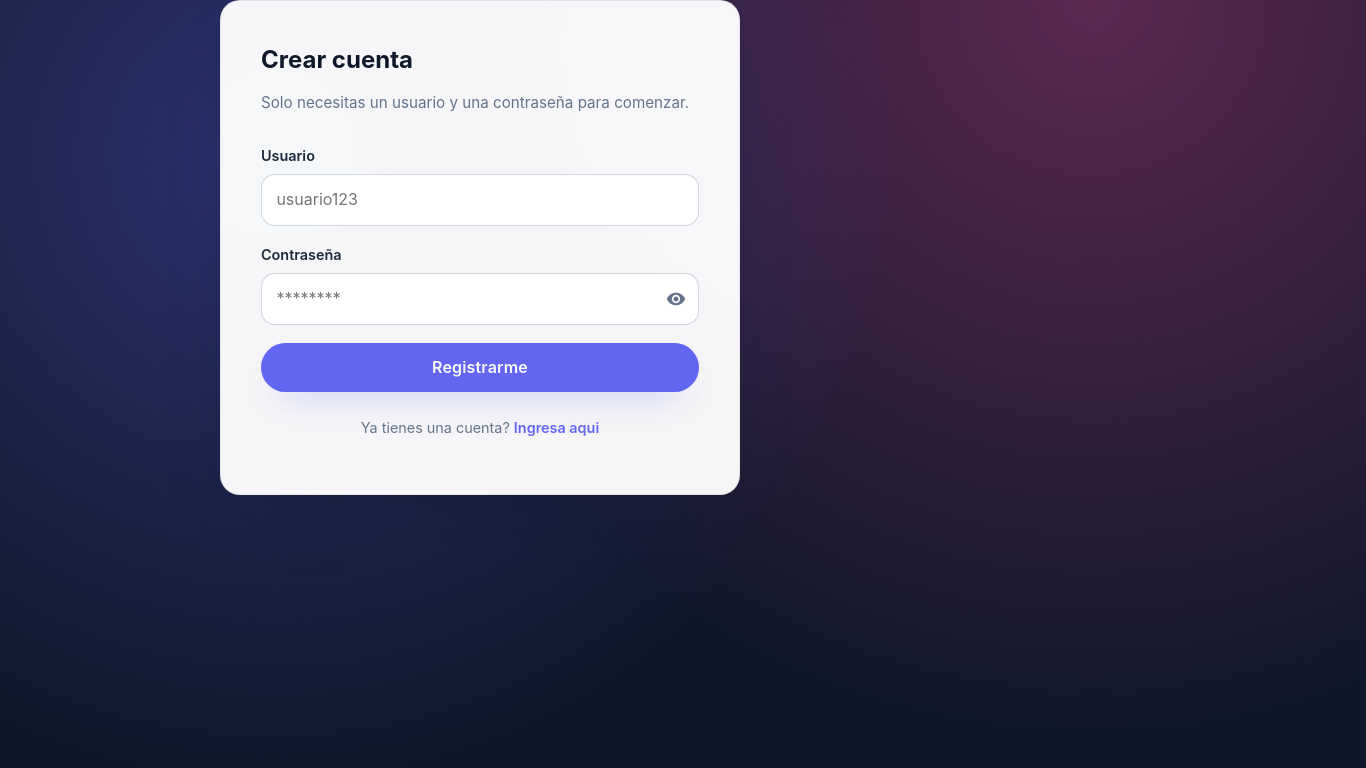
Test: RegisterForm › muestra mensajes de error cuando los campos son invalidos
The width and height of the screenshot is (1366, 768).
Type "abc1" into the field labelled "Usuario". click: (480, 200)
box: top-left (261, 174), bottom-right (699, 226)
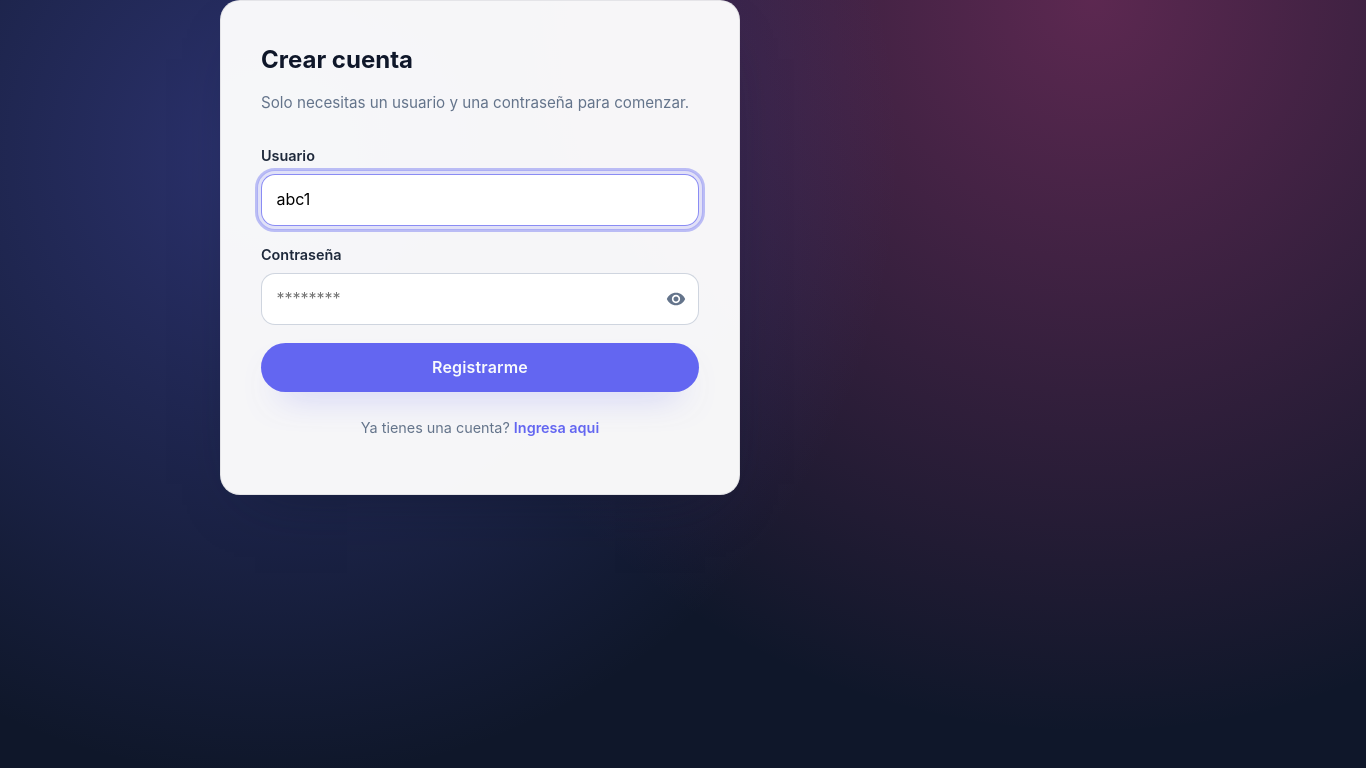
Type "abc" into the password field labelled "Contraseña". click: (480, 299)
box: top-left (261, 273), bottom-right (699, 325)
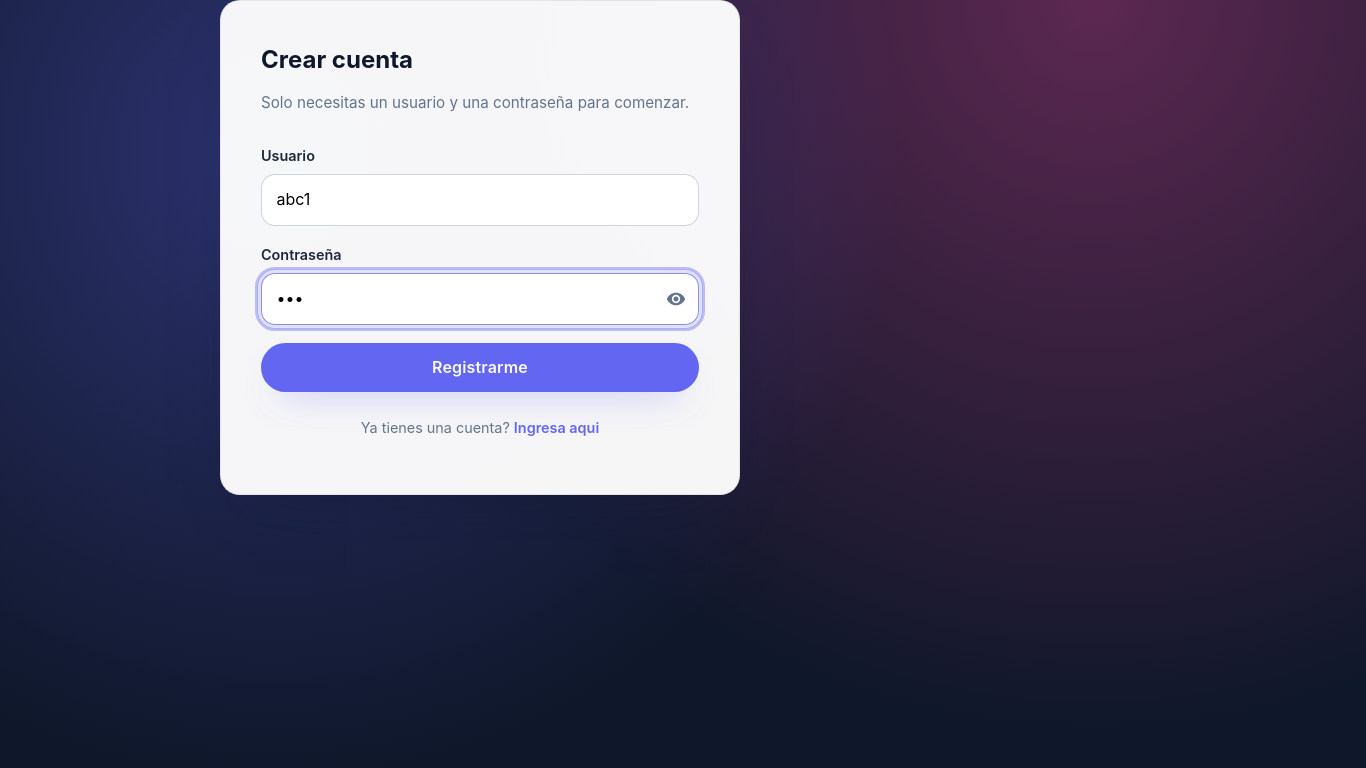
Click the button "Registrarme". click: (480, 367)
box: top-left (261, 342), bottom-right (699, 392)
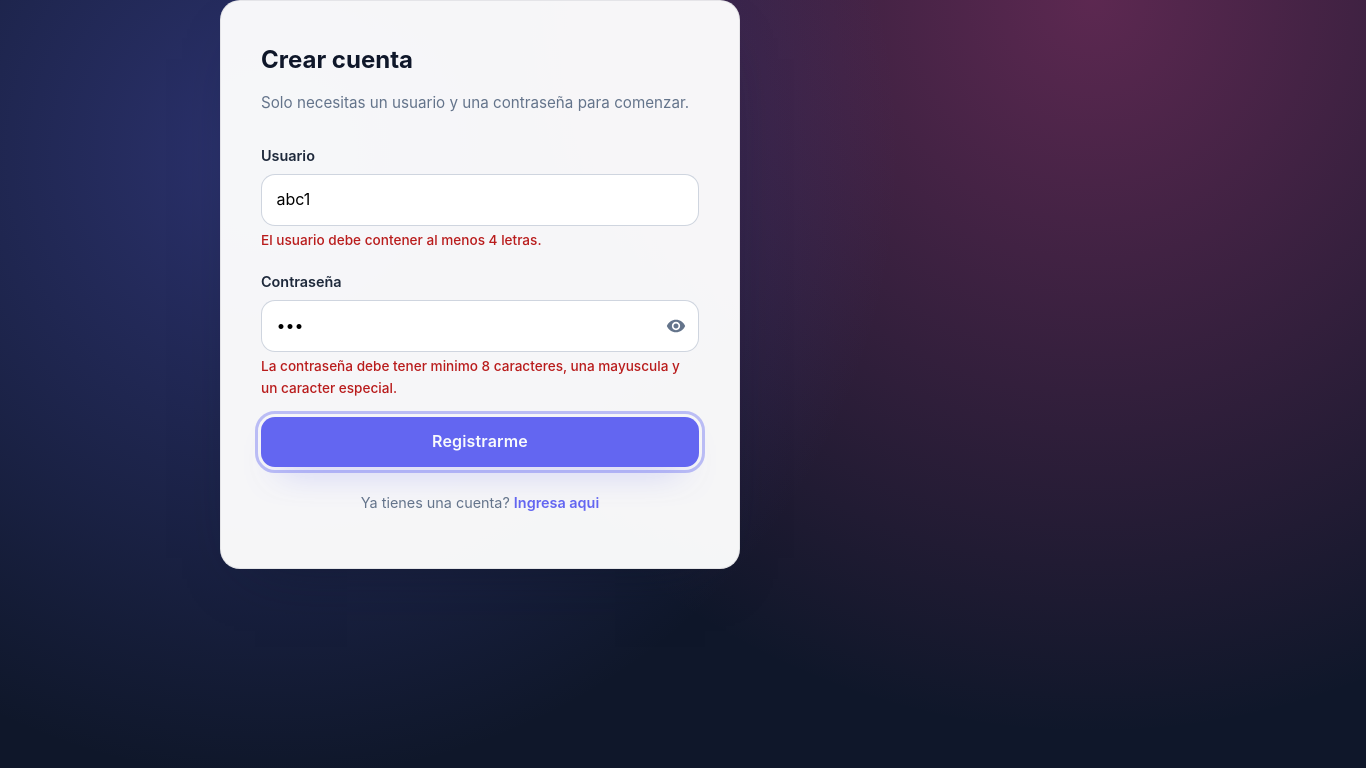
Now the text "El usuario debe contener al menos 4 letras." is shown, box top-left (261, 232), bottom-right (542, 248)
Now the text "La contrase" is shown, box top-left (261, 358), bottom-right (680, 396)
